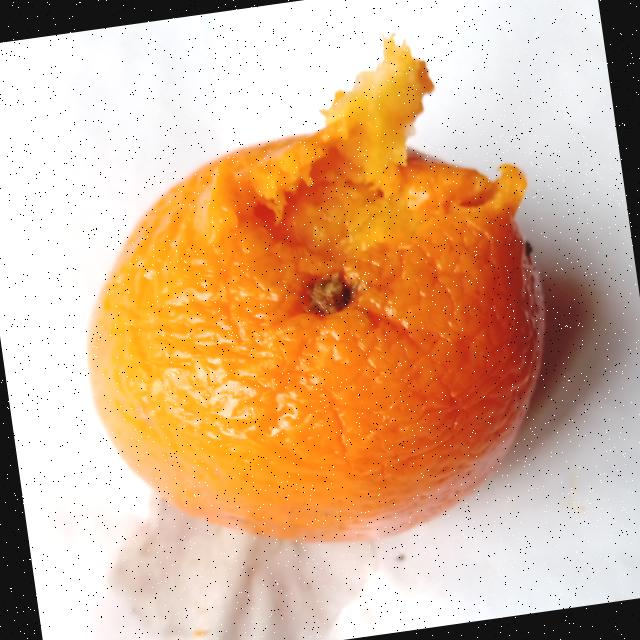Rotten: (44, 9, 577, 578)
